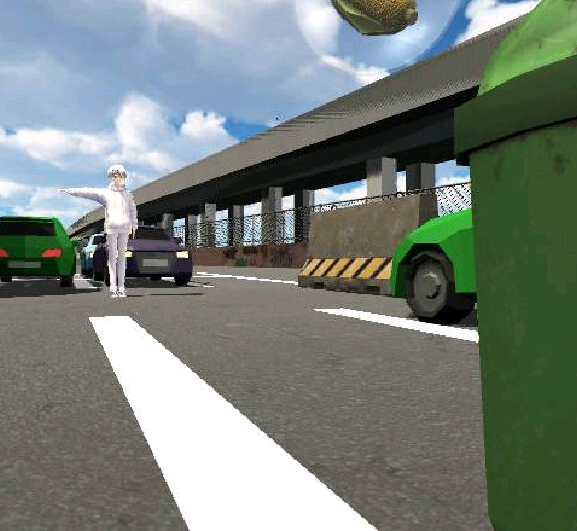singleP_left: (56, 160, 138, 298)
